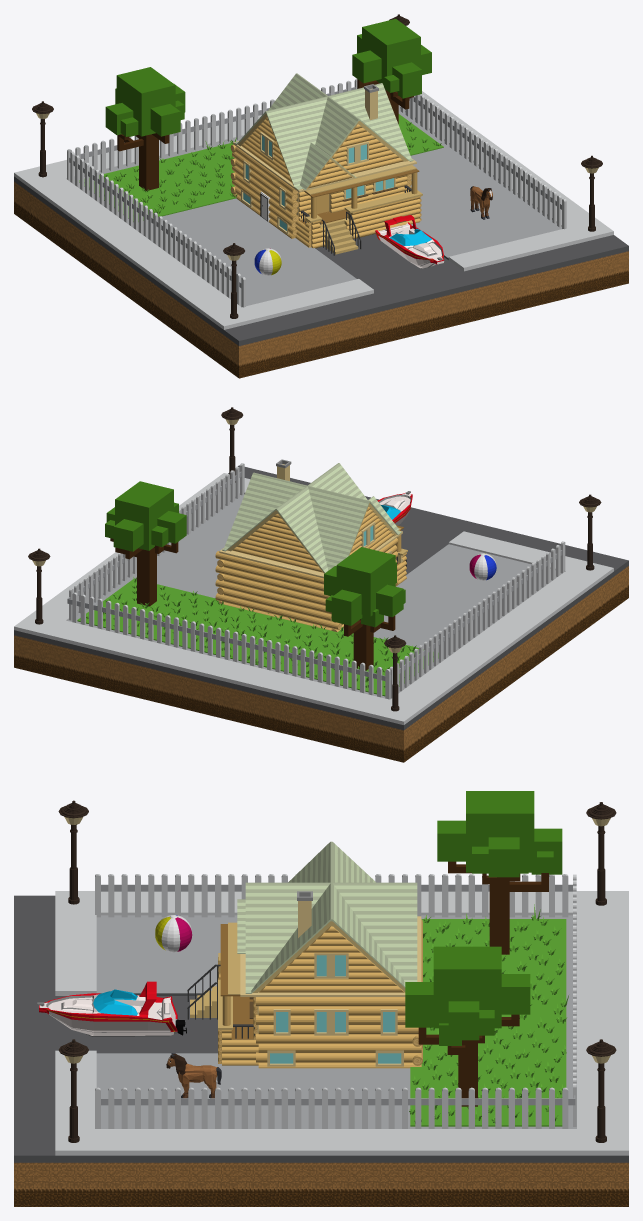
3 renders of one model, top to bottom at view 1: azimuth 30°, elevation 25°; view 2: azimuth 150°, elevation 25°; view 3: azimuth 270°, elevation 25°, orthographic. The views are drawn at different scales.
Parts seen in each view (by area): view 1: Cube.004, Cube.1516, VEHICLES_BOAT, OBJRANDOM_BEACHBALL, ANIMAL_CABALLO; view 2: Cube.004, Cube.1516, VEHICLES_BOAT, OBJRANDOM_BEACHBALL; view 3: Cube.004, Cube.1516, VEHICLES_BOAT, ANIMAL_CABALLO, OBJRANDOM_BEACHBALL.
Part boxes in pixels (left/top/right/bottom): Cube.004: left=14, top=14, right=628, bottom=378; Cube.1516: left=230, top=73, right=422, bottom=255; VEHICLES_BOAT: left=375, top=215, right=444, bottom=268; OBJRANDOM_BEACHBALL: left=254, top=248, right=281, bottom=275; ANIMAL_CABALLO: left=470, top=186, right=492, bottom=219; Cube.004: left=14, top=407, right=628, bottom=762; Cube.1516: left=215, top=459, right=407, bottom=632; VEHICLES_BOAT: left=377, top=491, right=412, bottom=525; OBJRANDOM_BEACHBALL: left=469, top=553, right=496, bottom=580; Cube.004: left=14, top=791, right=628, bottom=1206; Cube.1516: left=187, top=841, right=422, bottom=1068; VEHICLES_BOAT: left=37, top=981, right=186, bottom=1036; ANIMAL_CABALLO: left=166, top=1053, right=221, bottom=1098; OBJRANDOM_BEACHBALL: left=155, top=915, right=192, bottom=952.
Bounding box in the file's own units: 4000 × 1752 × 4000.
Materials: 37 (4 with a texture image).
